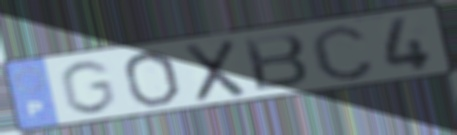4: (380, 14, 436, 73)
B: (240, 31, 312, 93)
C: (307, 22, 378, 83)
G: (57, 58, 119, 116)
O: (120, 48, 184, 109)
X: (181, 36, 248, 104)
